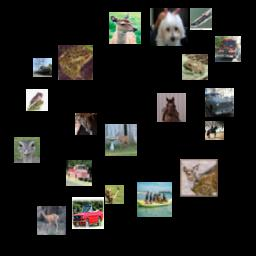automobile: (72, 197, 104, 229), (205, 88, 234, 117)
bird: (14, 137, 40, 163), (26, 89, 48, 111)
cat: (75, 113, 97, 135)
deer: (180, 159, 218, 197), (105, 124, 137, 156), (109, 12, 141, 44), (37, 206, 66, 235), (105, 185, 124, 204)
dog: (150, 8, 188, 46)
frog: (58, 45, 93, 80), (182, 54, 208, 80)
ship: (137, 182, 172, 217), (190, 8, 212, 30), (33, 58, 52, 77)
truck: (66, 160, 92, 186), (215, 36, 241, 62)
